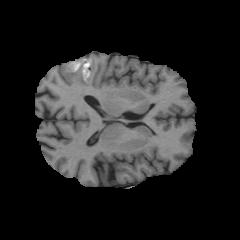glioma: (58, 55, 95, 88)
